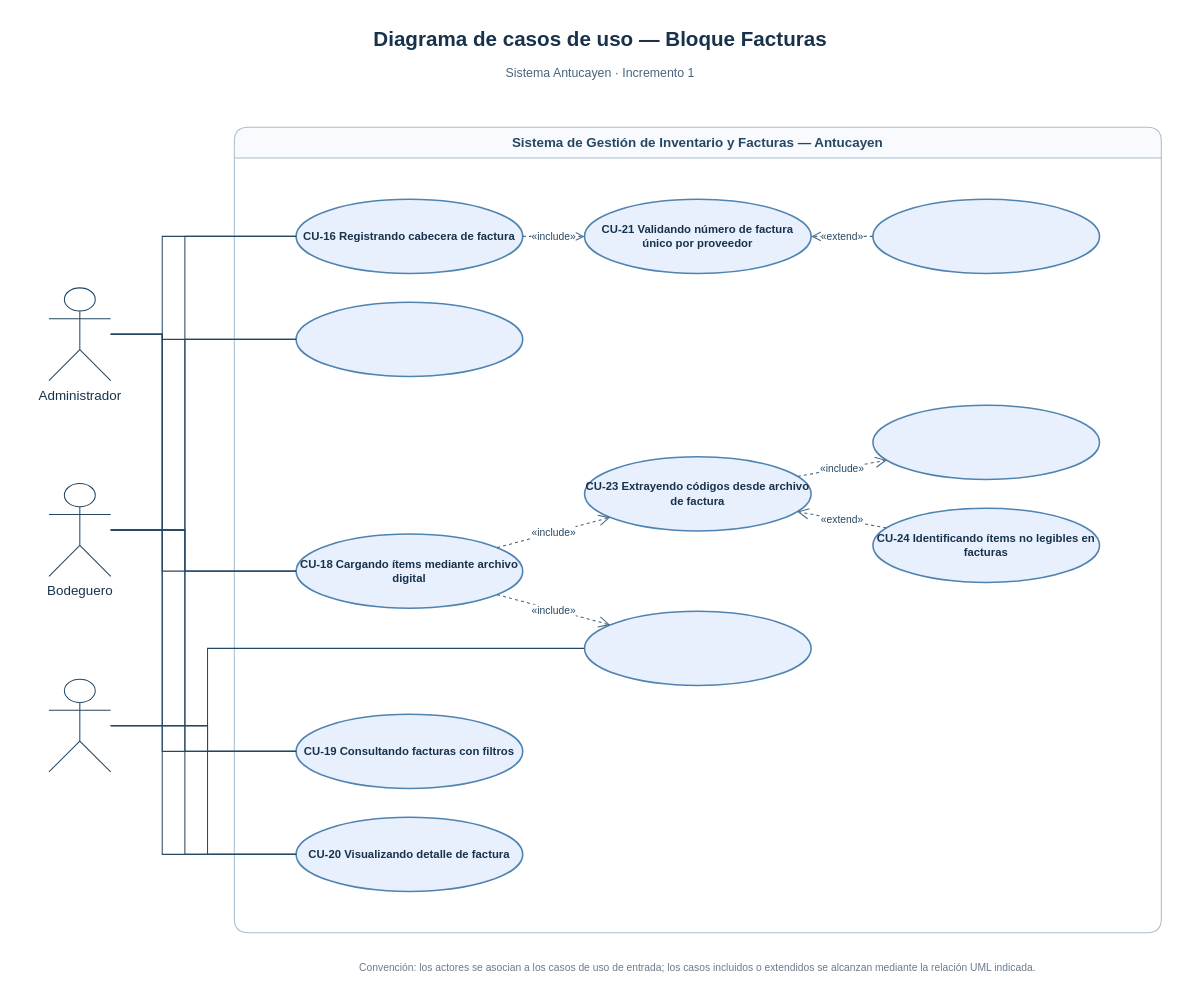
Image size: 1199x1005. Some labels were removed from this diagram. The shapes that lost their labels are listed below. From the top down, each one's box as (x1, y1, x2, y2) in pixels, then its label:
(872, 198, 1100, 274): CU-22 Controlando alerta de factura duplicada
(295, 301, 523, 377): CU-17 Cargando ítems de factura manualmente
(872, 404, 1100, 480): CU-25 Buscando correspondencia SKU para código extraído
(583, 610, 811, 686): CU-26 Visualizando resumen de procesamiento de factura
(48, 678, 111, 772): Cajero
